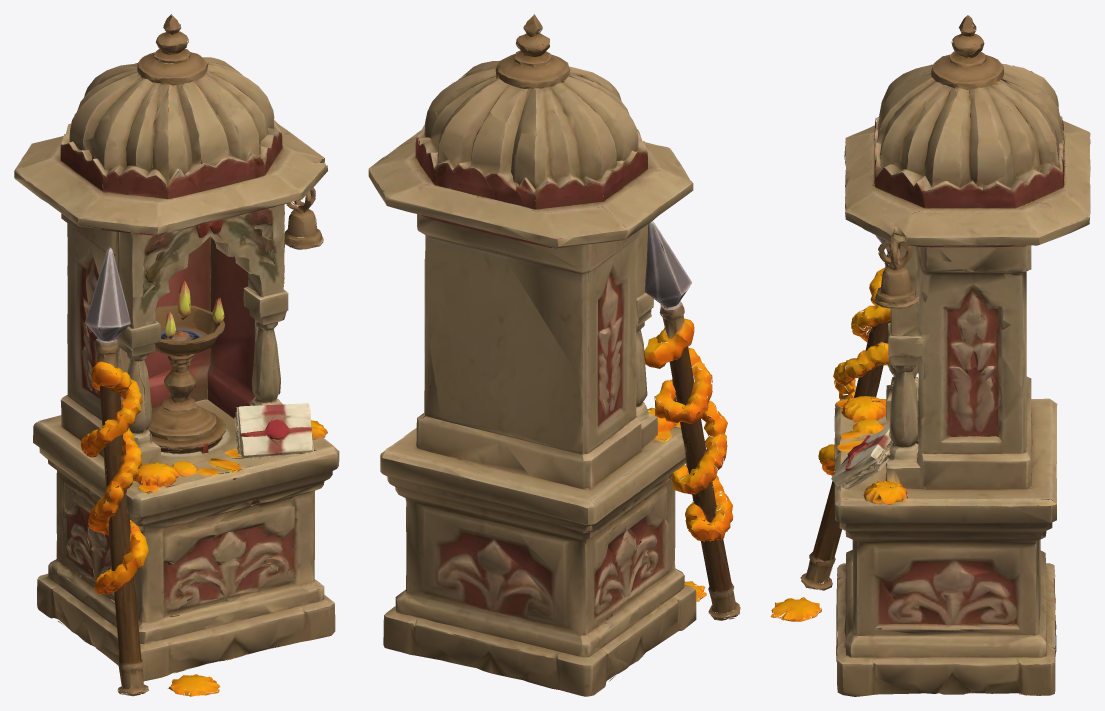
Rendered from shrine.glb.
3 views of the same model, side by side, from view 1: azimuth 30°, elevation 25°; view 2: azimuth 150°, elevation 25°; view 3: azimuth 270°, elevation 25° (orthographic). The views are drawn at different scales.
Parts seen in each view (by area): view 1: world; view 2: world; view 3: world.
Part boxes in pixels (x1,y1,x2,y2): world: (14,14,339,696); world: (368,14,740,696); world: (770,15,1090,696).
Bounding box in the file's own units: 0.2225 × 0.5016 × 0.2312.
1 material, 1 textured.
